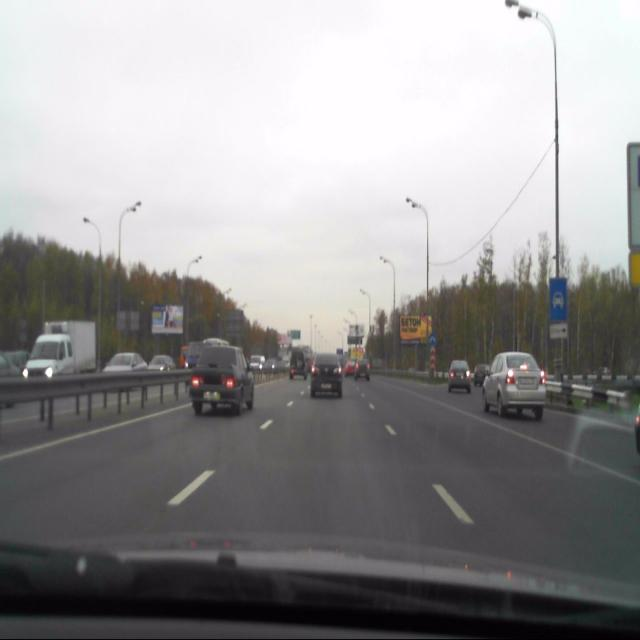road sign: (549, 278, 565, 322)
